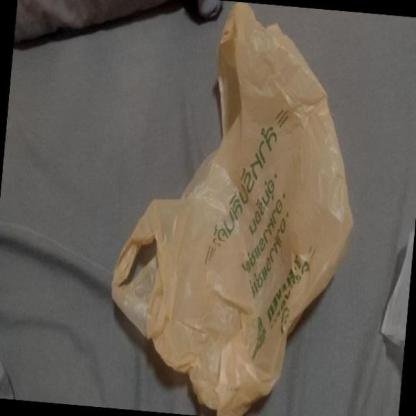Plastic Bag: (112, 0, 356, 416)
